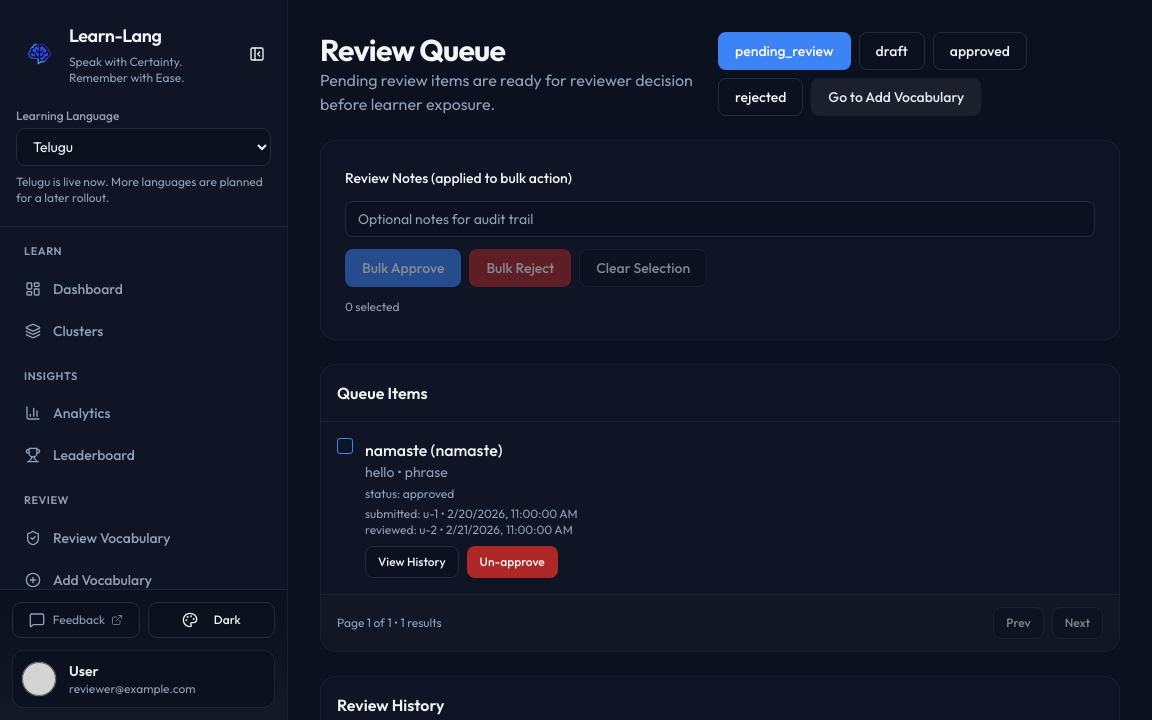
Test: ReviewPage integration › shows status-aware bulk actions for approved queue
Click the button "approved" at (980, 51), box [933, 32, 1027, 70]
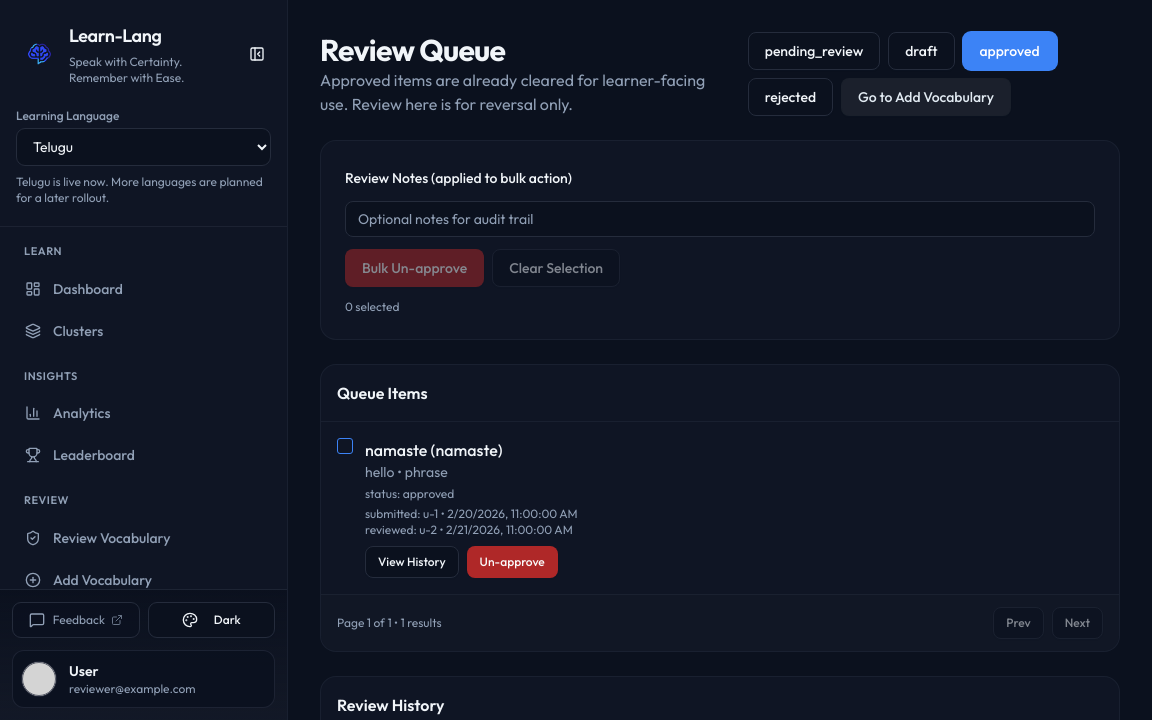
Result: the button "Bulk Un-approve" is shown at [345, 249, 484, 287]
Result: the button "Bulk Approve" is gone
